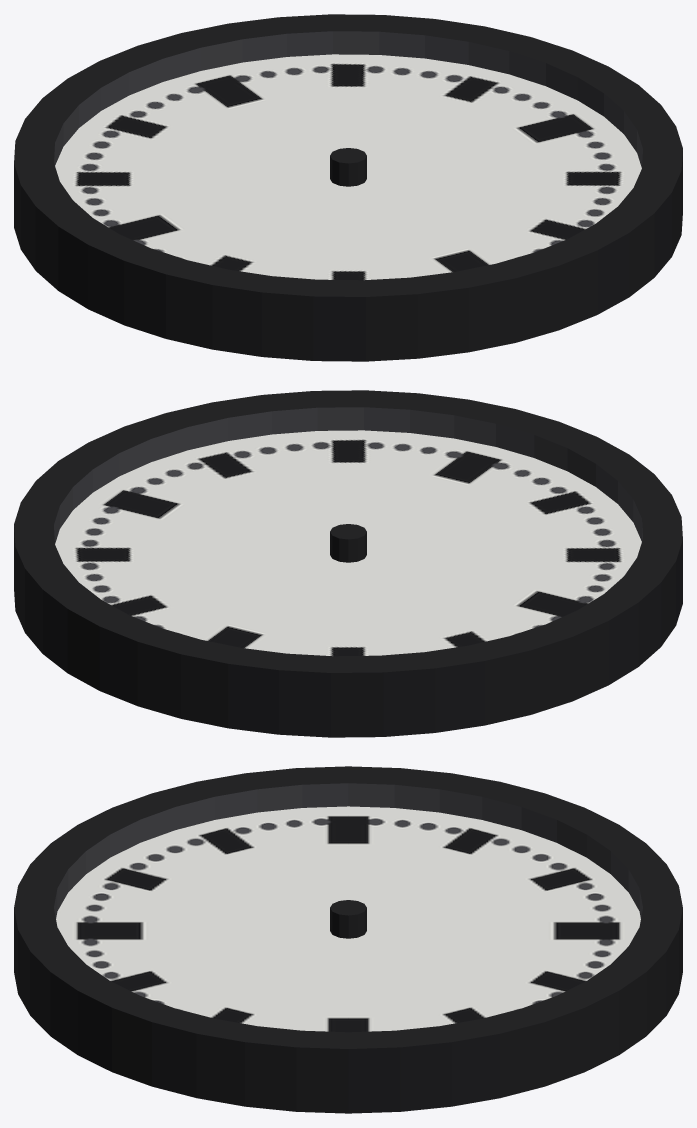
Rendered from lp_clk_school.obj.
The picture shows the model from 3 angles, top to bottom: view 1: azimuth 30°, elevation 25°; view 2: azimuth 150°, elevation 25°; view 3: azimuth 270°, elevation 25°; orthographic projection.
Parts seen in each view (by area): view 1: lp_clk_school; view 2: lp_clk_school; view 3: lp_clk_school.
Part boxes in pixels (left/top/right/bottom): lp_clk_school: left=14, top=14, right=682, bottom=361; lp_clk_school: left=14, top=390, right=682, bottom=737; lp_clk_school: left=14, top=766, right=682, bottom=1113.
Size of the model in its own units: 0.47 by 0.05 by 0.47.
1 material, 1 textured.
